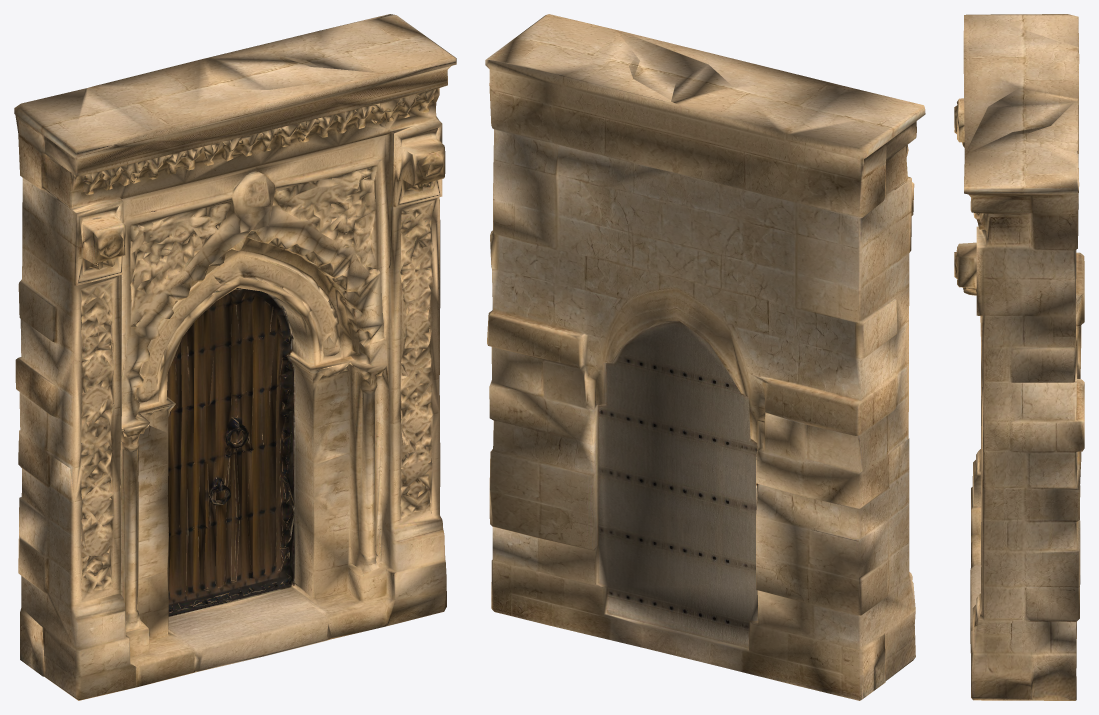
The model's file is city_mardin_stone_doorway.glb.
3 renders of one model, left to right at view 1: azimuth 30°, elevation 25°; view 2: azimuth 150°, elevation 25°; view 3: azimuth 270°, elevation 25°, orthographic. The views are drawn at different scales.
Parts seen in each view (by area): view 1: Mesh1.0; view 2: Mesh1.0; view 3: Mesh1.0.
Part boxes in pixels (x1,y1,x2,y2): Mesh1.0: (14,14,456,700); Mesh1.0: (485,14,925,700); Mesh1.0: (954,14,1084,700).
Size of the model in its own units: 2.59 by 3.6 by 0.8227.
Materials: 1 (1 with a texture image).
